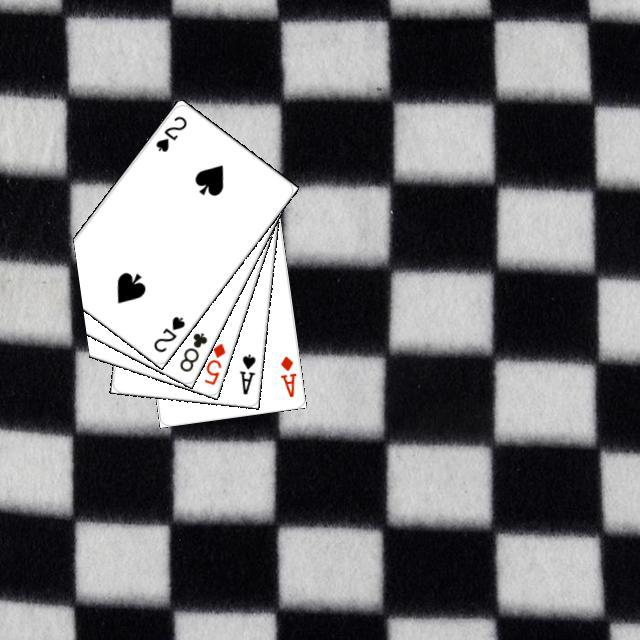2s: (148, 311, 187, 354), (150, 111, 189, 154)
5d: (199, 338, 227, 387)
8c: (175, 328, 209, 374)
Ad: (275, 351, 298, 399)
As: (234, 349, 257, 396)
